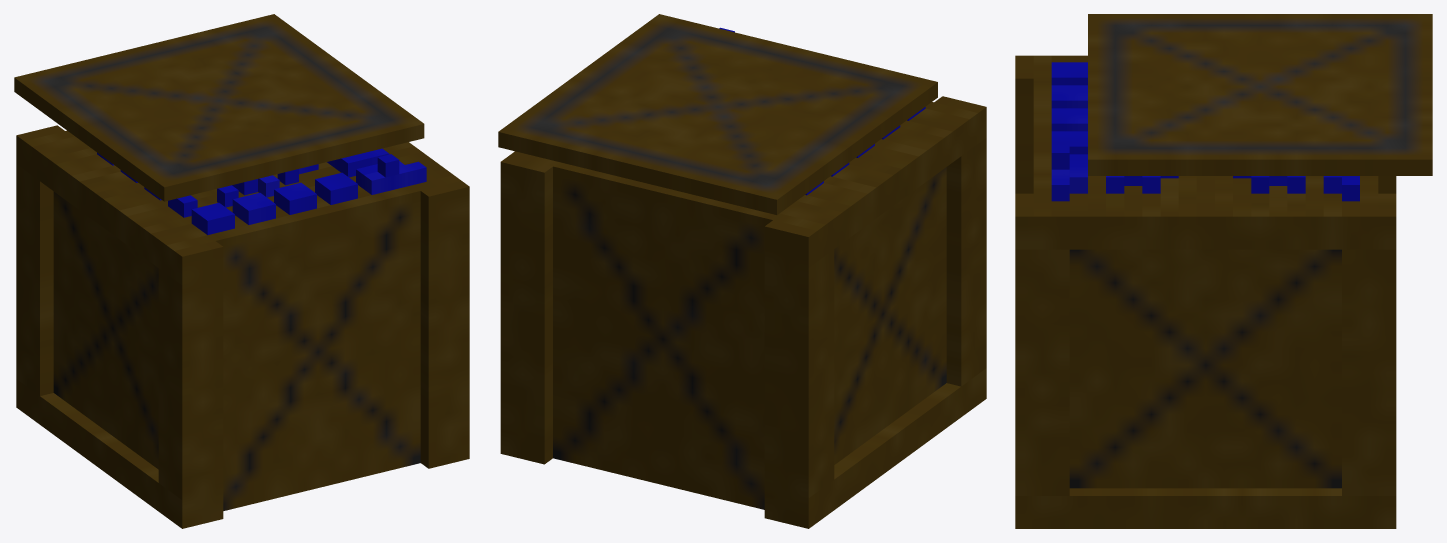
The model's file is box_wtih_tape.fbx.
3 views of the same model, side by side, from view 1: azimuth 30°, elevation 25°; view 2: azimuth 150°, elevation 25°; view 3: azimuth 270°, elevation 25° (orthographic). The views are drawn at different scales.
Visible parts, largest first — view 1: Matrix; view 2: Matrix; view 3: Matrix.
Part boxes in pixels (<box>): Matrix: <box>14,14,469,528</box>; Matrix: <box>498,14,986,528</box>; Matrix: <box>1015,14,1432,528</box>.
Bounding box in the file's own units: 21 × 22 × 23.
Materials: 1 (1 with a texture image).
